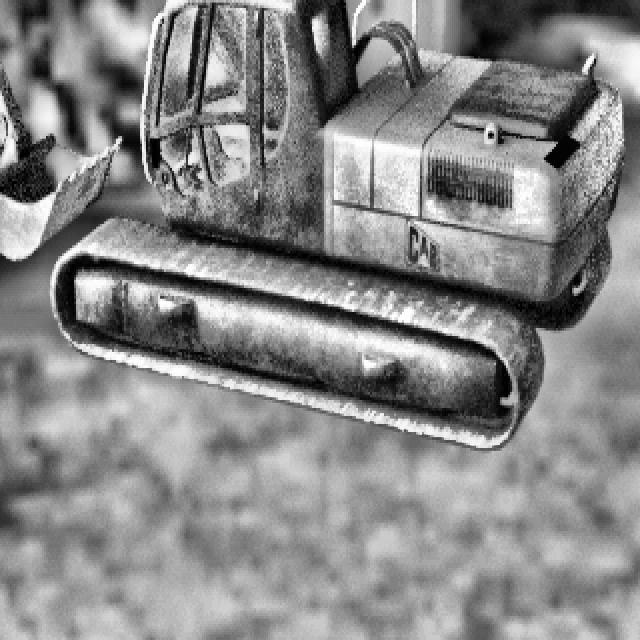excavator: (0, 0, 624, 448)
